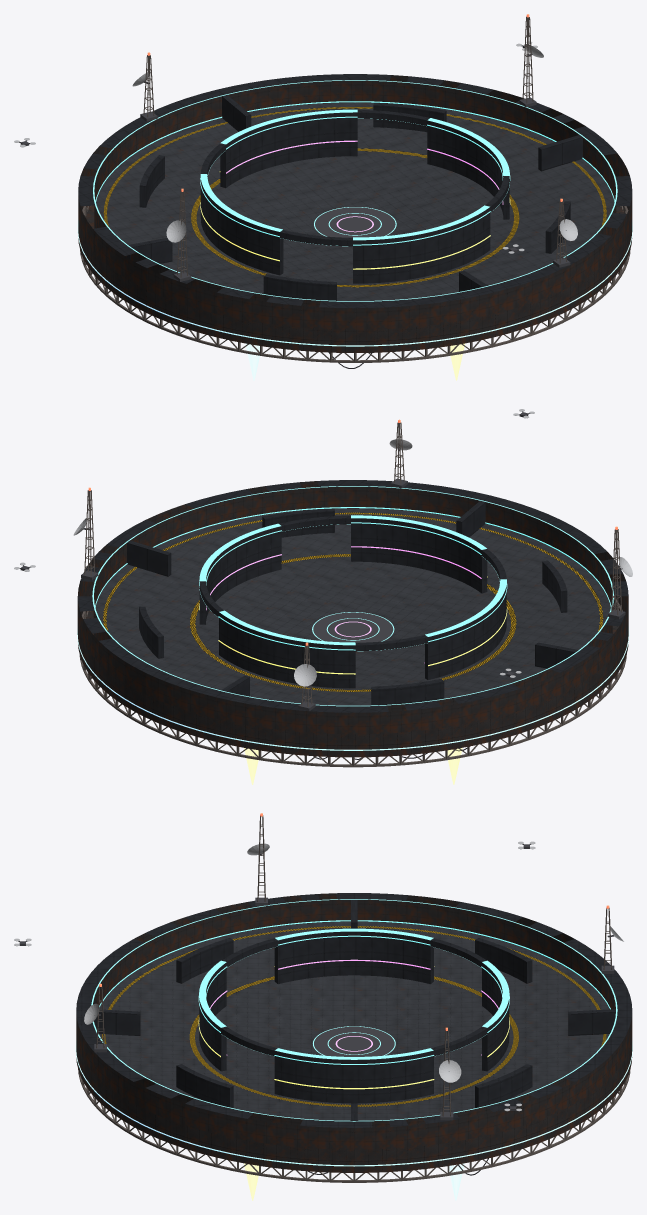
File: sky_arena.glb
3 views of the same model, one above another, from view 1: azimuth 30°, elevation 25°; view 2: azimuth 150°, elevation 25°; view 3: azimuth 270°, elevation 25° (orthographic).
Parts seen in each view (by area): view 1: Deck, Rim, PurpleWall, Neon, RedBlueWalls, Truss, Base, Antenna_2, Antenna_0, Antenna_3, Antenna_1; view 2: Deck, Rim, PurpleWall, Neon, RedBlueWalls, Truss, Base, Antenna_2, Antenna_1, Antenna_0, Antenna_3; view 3: Deck, Rim, PurpleWall, Neon, RedBlueWalls, Truss, Base, Antenna_0, Antenna_2, Antenna_3.
Boxes of the visible parts, box(x1,y1,x2,y2) form: Deck: box(78, 102, 632, 352); Rim: box(78, 74, 632, 352); PurpleWall: box(200, 110, 509, 283); Neon: box(77, 80, 632, 346); RedBlueWalls: box(127, 95, 582, 300); Truss: box(80, 205, 630, 362); Base: box(313, 207, 396, 237); Antenna_2: box(166, 191, 191, 281); Antenna_0: box(519, 16, 543, 107); Antenna_3: box(553, 201, 577, 267); Antenna_1: box(132, 55, 157, 121); Deck: box(77, 508, 628, 757); Rim: box(77, 480, 628, 757); PurpleWall: box(199, 515, 506, 688); Neon: box(77, 486, 629, 750); RedBlueWalls: box(127, 501, 578, 705); Truss: box(79, 596, 626, 767); Base: box(312, 612, 394, 642); Antenna_2: box(608, 529, 632, 619); Antenna_1: box(294, 645, 316, 711); Antenna_0: box(73, 490, 98, 580); Antenna_3: box(389, 422, 412, 488); Deck: box(76, 921, 632, 1172); Rim: box(76, 893, 632, 1172); PurpleWall: box(199, 931, 509, 1103); Neon: box(75, 899, 632, 1166); RedBlueWalls: box(94, 899, 615, 1120); Truss: box(78, 1069, 630, 1182); Base: box(312, 1026, 395, 1056); Antenna_0: box(439, 1030, 461, 1120); Antenna_2: box(247, 815, 269, 905); Antenna_3: box(84, 986, 106, 1052).
Size of what is drawn, in the model's own units: 55.34 by 21.19 by 57.88.
15 materials, 4 textured.
